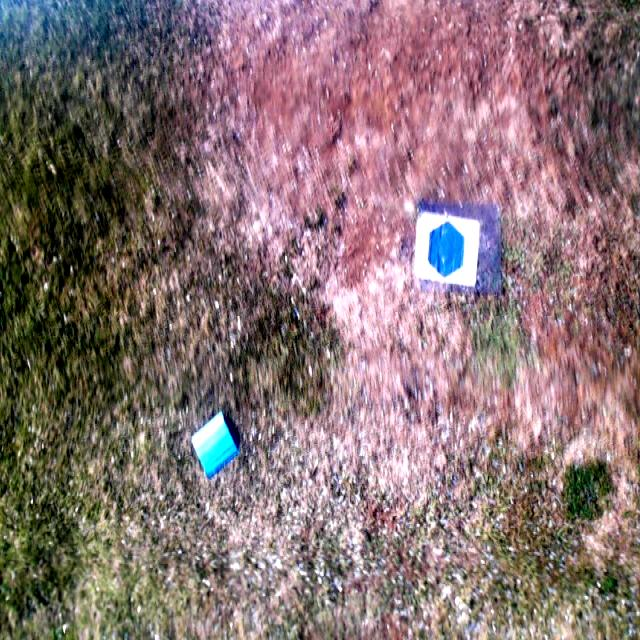blue_hexagon: (428, 221, 464, 277)
blue_square: (192, 414, 237, 477)
